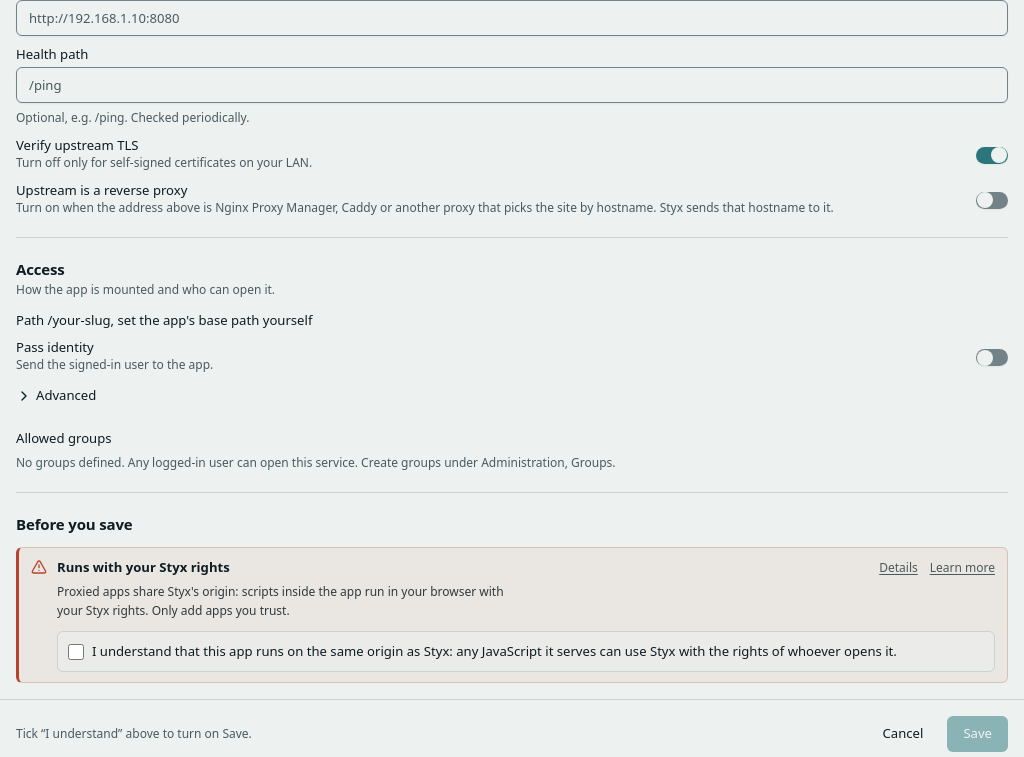
Test case: ServiceForm upstream reverse proxy › switch reveals the warning; there is no hostname field
The width and height of the screenshot is (1024, 757).
(page scrolled)
Step 1. Click the checkbox labelled "I understand that this app runs on the same origin as Styx" → [76, 652], box [68,644,84,660]
(page scrolled)
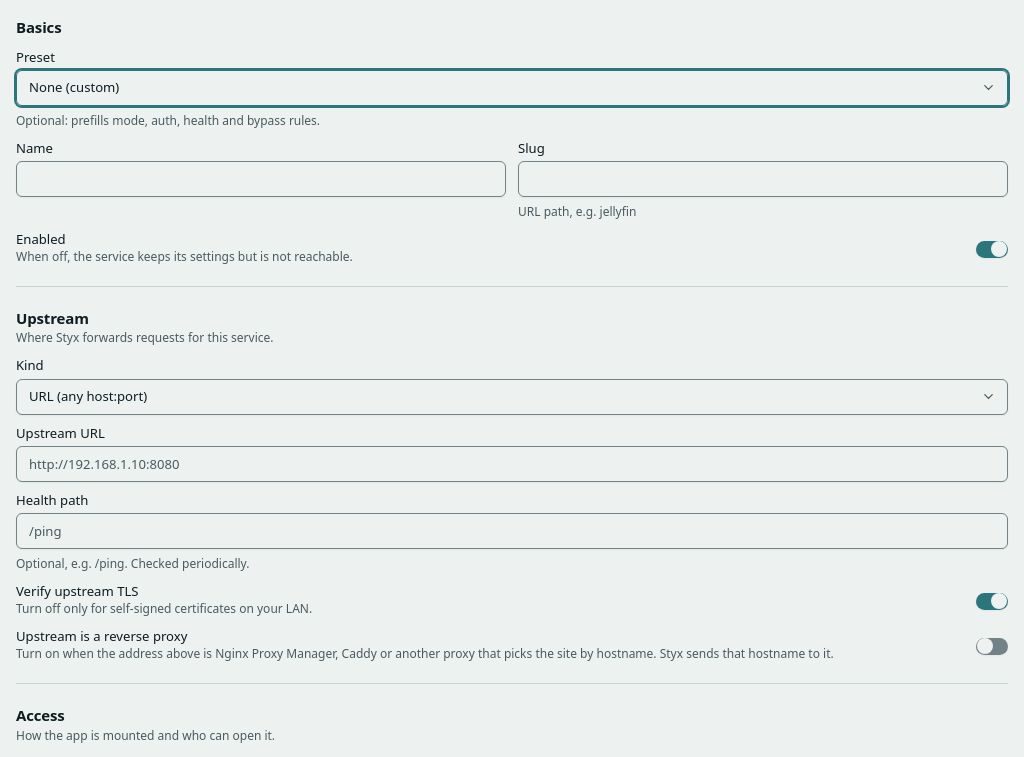
Step 2. Type "g" into the field labelled "Slug" → [763, 179], box [518,161,1008,197]
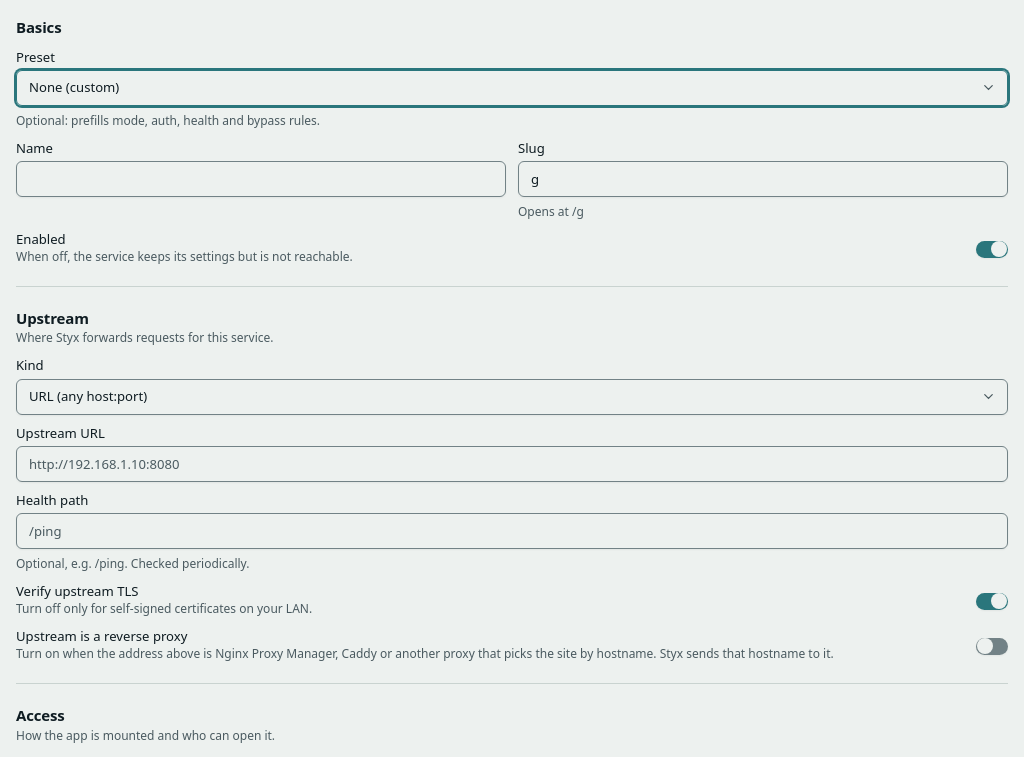
Step 3. Type "G" into the field labelled "Name" → [261, 179], box [16,161,506,197]
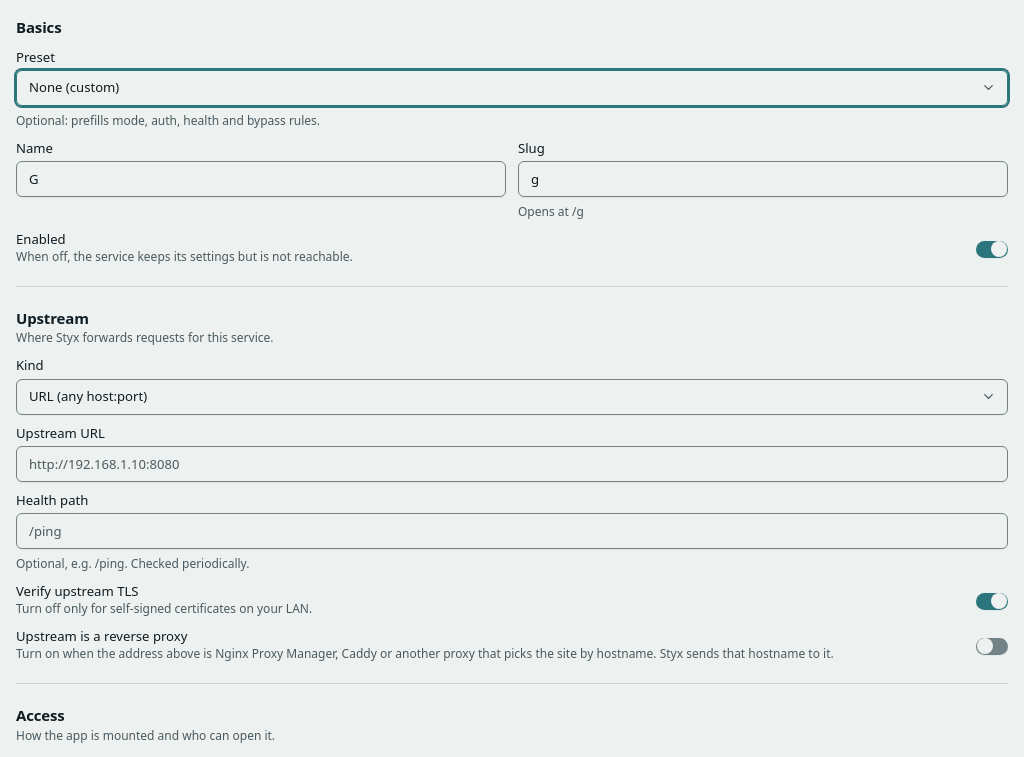
Step 4. Type "https://unraid.home.lan" into the field labelled "Upstream URL" → [512, 464], box [16,446,1008,482]
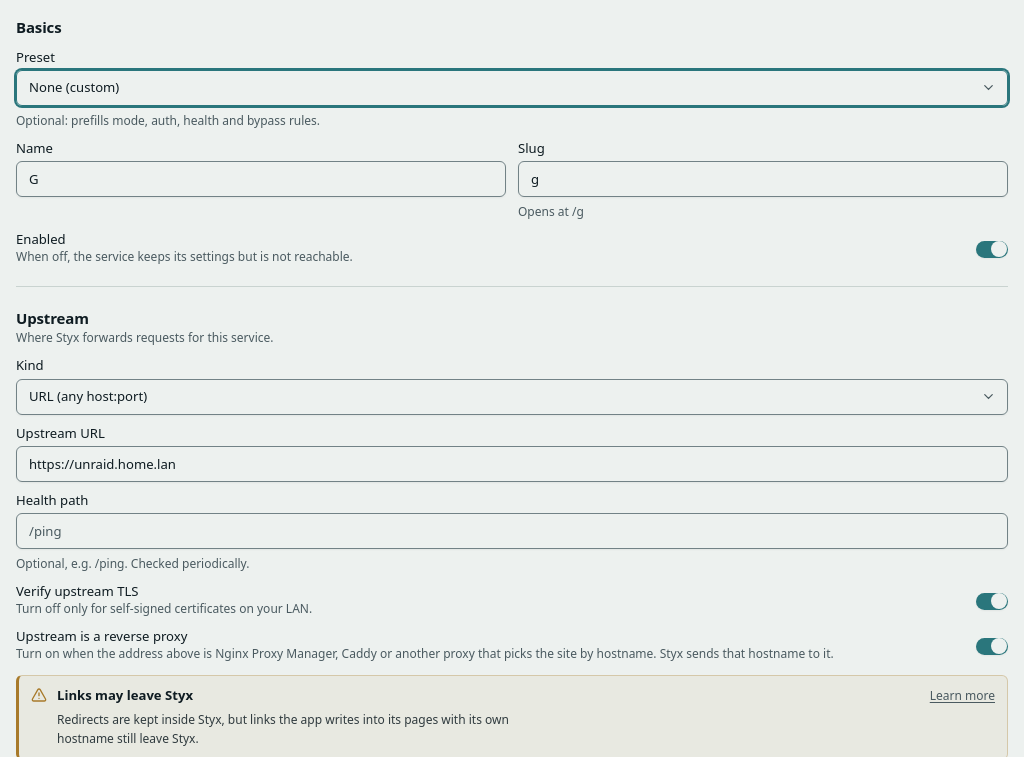
Step 5. Click the switch named "Upstream is a reverse proxy" → [992, 646], box [976,638,1008,655]
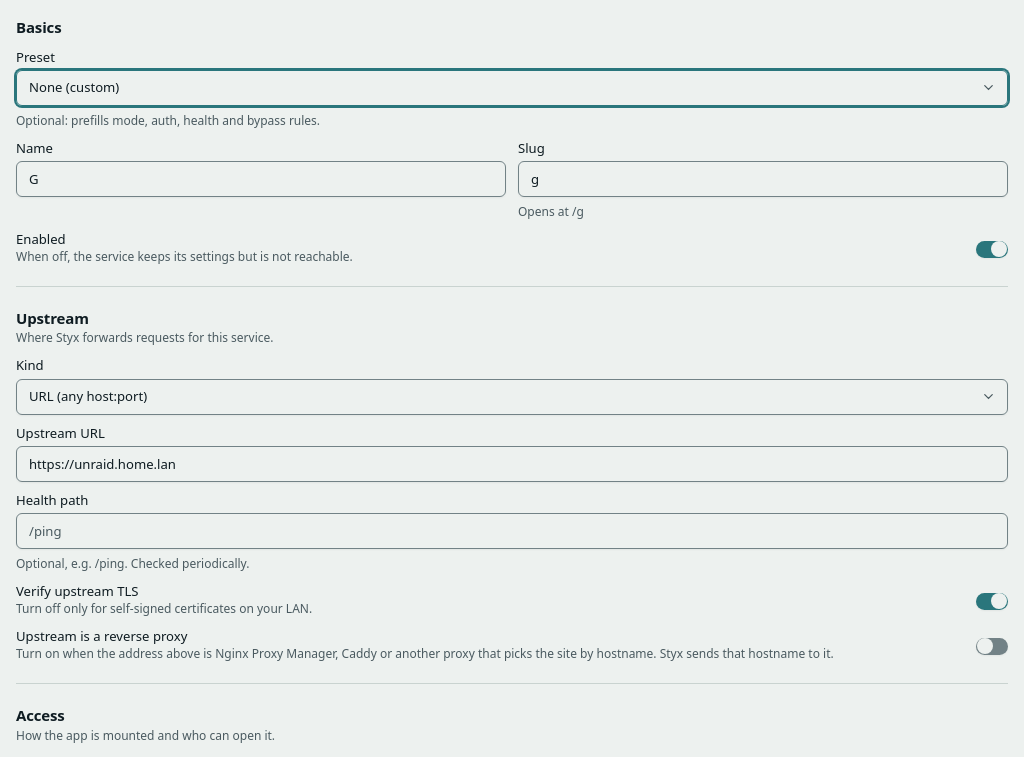
Result: the text "Links may leave Styx" is gone
Step 6. Click the switch named "Upstream is a reverse proxy" → [992, 646], box [976,638,1008,655]
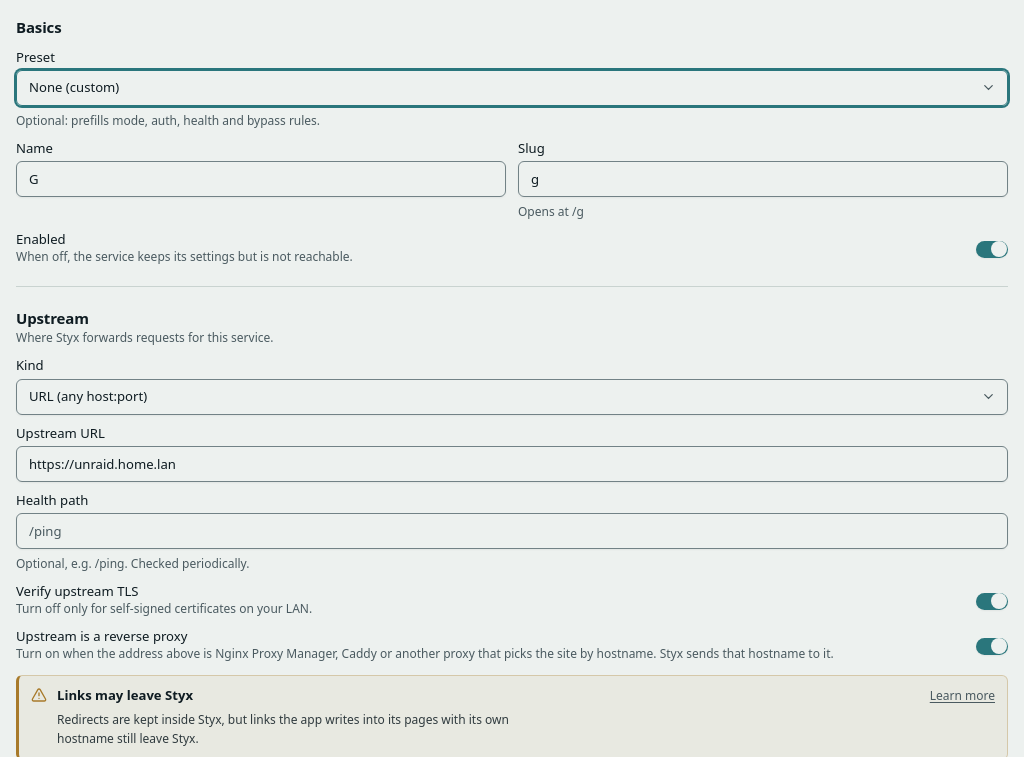
Expected: the text "Styx sends that hostname to it." is shown, [16,645,834,662]
Result: the text "Links may leave Styx" is shown at [57,686,193,704]
